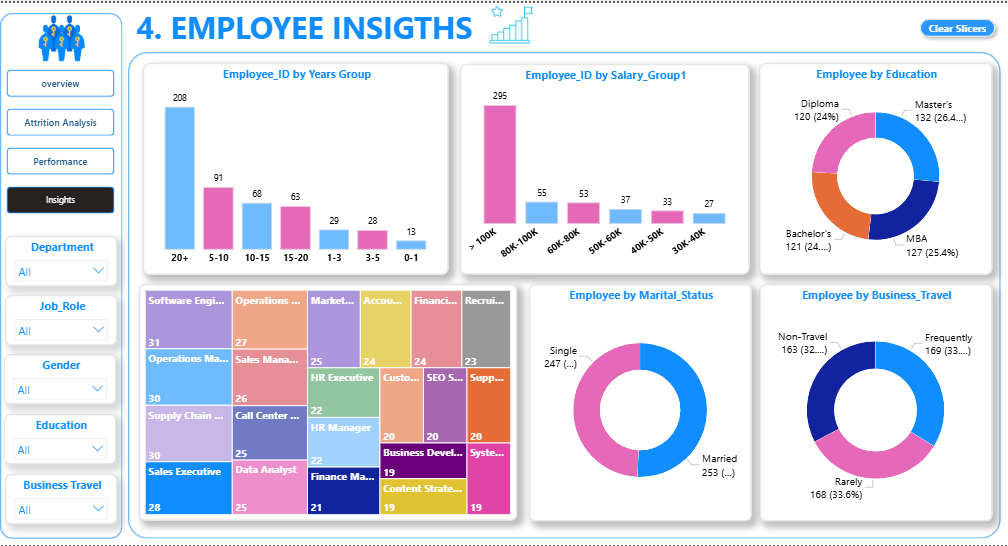

Layout of this report page (visuals, bound fields, positions):
{"tool":"powerbi","page":{"name":"Insights","canvas":[1580,850],"ordinal":3},"visuals":[{"type":"shape","box":[0,15.3,192.1,824.5],"z":0},{"type":"shape","box":[200.6,76.5,1368.5,763.3],"z":1000},{"type":"textbox","box":[209,0,547.1,76.5],"z":2000},{"type":"slicer","title":"Education","fields":{"Values":["Sheet1.Education"]},"box":[6.9,644.8,176.2,78.8],"z":3000},{"type":"donutChart","title":"Employee by Education","fields":{"Y":["CountNonNull(Sheet1.Employee_ID)"],"Category":["Sheet1.Education"]},"box":[1190,93.5,365.5,331.5],"z":4000},{"type":"donutChart","title":"Employee by Business_Travel","fields":{"Y":["CountNonNull(Sheet1.Employee_ID)"],"Category":["Sheet1.Business_Travel"]},"box":[1190,440.3,365.5,372.3],"z":5000},{"type":"columnChart","title":"Employee_ID by Years Group","fields":{"Category":["Sheet1.Years Group"],"Y":["CountNonNull(Sheet1.Employee_ID)"]},"box":[224.4,93.5,479.4,331.5],"z":6000},{"type":"columnChart","title":"Employee_ID by Salary_Group1","fields":{"Y":["CountNonNull(Sheet1.Employee_ID)"],"Category":["Sheet1.Salary_Group1"]},"box":[720.8,95.2,453.9,329.8],"z":7000},{"type":"treemap","title":"Employee_ID by Job_Role","fields":{"Group":["Sheet1.Job_Role"],"Values":["CountNonNull(Sheet1.Employee_ID)"]},"box":[217.7,440.5,592.6,371.4],"z":8000},{"type":"slicer","title":"Department","fields":{"Values":["Sheet1.Department"]},"box":[8.5,365.1,176.2,78.8],"z":9000},{"type":"slicer","title":"Gender","fields":{"Values":["Sheet1.Gender"]},"box":[6.9,550.5,176.2,78.8],"z":10000},{"type":"slicer","title":"Job_Role","fields":{"Values":["Sheet1.Job_Role"]},"box":[8.5,457.8,176.2,78.8],"z":11000},{"type":"slicer","title":"Business Travel","fields":{"Values":["Sheet1.Business_Travel"]},"box":[7.8,739.4,176.2,79.5],"z":12000},{"type":"pageNavigator","box":[9.5,103.7,171,228],"z":13000},{"type":"donutChart","title":"Employee by Marital_Status","fields":{"Category":["Sheet1.Marital_Status"],"Y":["CountNonNull(Sheet1.Employee_ID)"]},"box":[829.6,440.3,348.5,372.3],"z":14000},{"type":"actionButton","box":[1433.9,15.5,136.5,46.6],"z":15000},{"type":"image","box":[36.9,15.8,117.9,79.2],"z":16000},{"type":"image","box":[739,0,125.7,68],"z":17000}]}

Visuals, with their boxes in screenshot pixels (x1, y1, x2, y2), scaled from the page's 1580x850 canvas onto the 1008x546 screenshot:
shape: (0,10,123,539)
shape: (128,49,1001,539)
textbox: (133,0,482,49)
"Education" slicer: (4,414,117,465)
"Employee by Education" donutChart: (759,60,992,273)
"Employee by Business_Travel" donutChart: (759,283,992,522)
"Employee_ID by Years Group" columnChart: (143,60,449,273)
"Employee_ID by Salary_Group1" columnChart: (460,61,749,273)
"Employee_ID by Job_Role" treemap: (139,283,517,522)
"Department" slicer: (5,235,118,285)
"Gender" slicer: (4,354,117,404)
"Job_Role" slicer: (5,294,118,345)
"Business Travel" slicer: (5,475,117,526)
pageNavigator: (6,67,115,213)
"Employee by Marital_Status" donutChart: (529,283,752,522)
actionButton: (915,10,1002,40)
image: (24,10,99,61)
image: (471,0,552,44)
